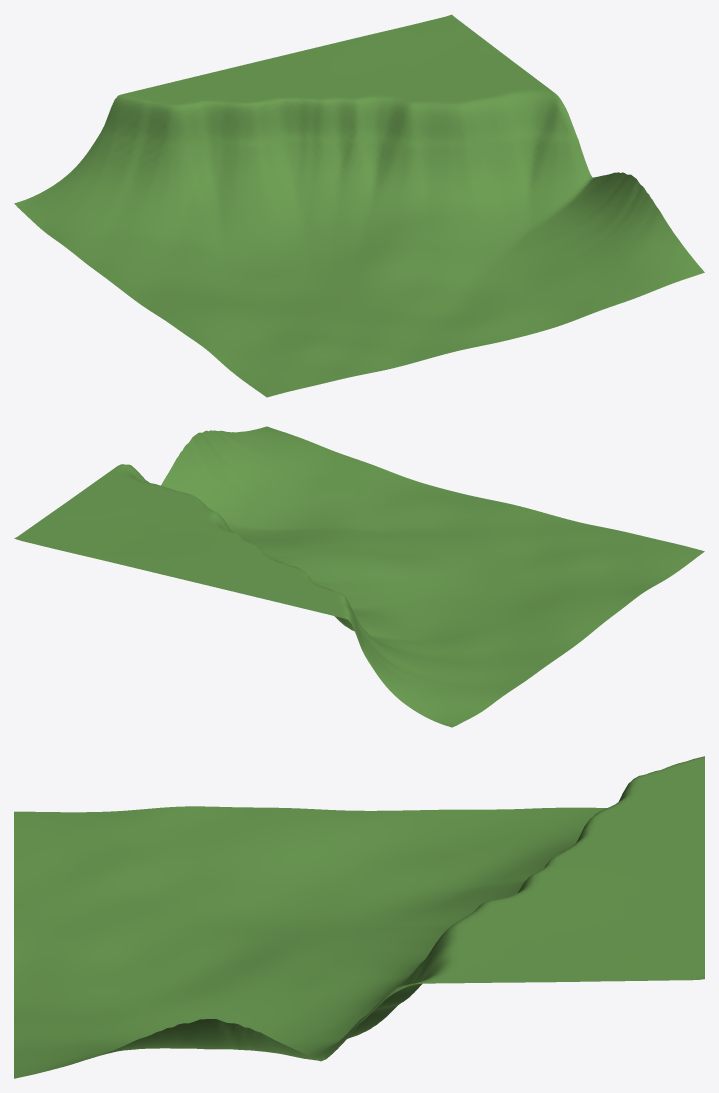
The model's file is SM_Terrain_01_05.fbx.
The picture shows the model from 3 angles, top to bottom: view 1: azimuth 30°, elevation 25°; view 2: azimuth 150°, elevation 25°; view 3: azimuth 270°, elevation 25°; orthographic projection. The views are drawn at different scales.
Parts seen in each view (by area): view 1: SM_Terrain_01_05; view 2: SM_Terrain_01_05; view 3: SM_Terrain_01_05.
Boxes of the visible parts, x1,y1,x2,y2 form: SM_Terrain_01_05: [14, 14, 704, 397]; SM_Terrain_01_05: [14, 426, 704, 727]; SM_Terrain_01_05: [14, 756, 704, 1078].
Bounding box in the file's own units: 384 × 80.37 × 384.
